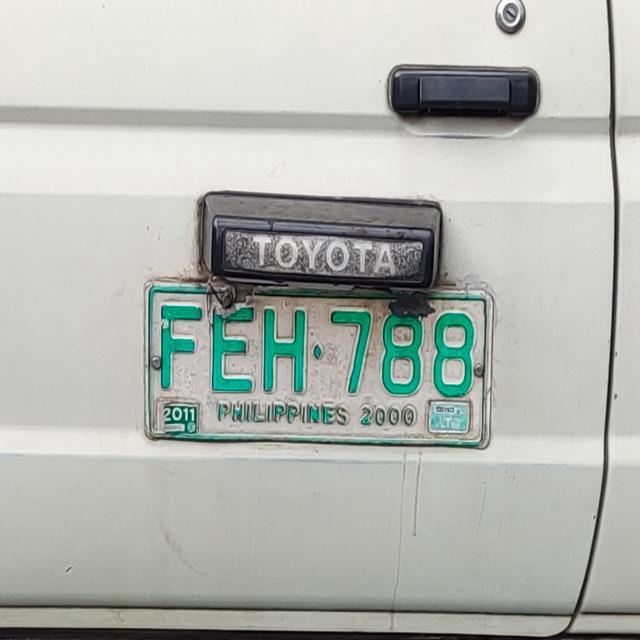LicensePlate: (136, 275, 496, 457)
